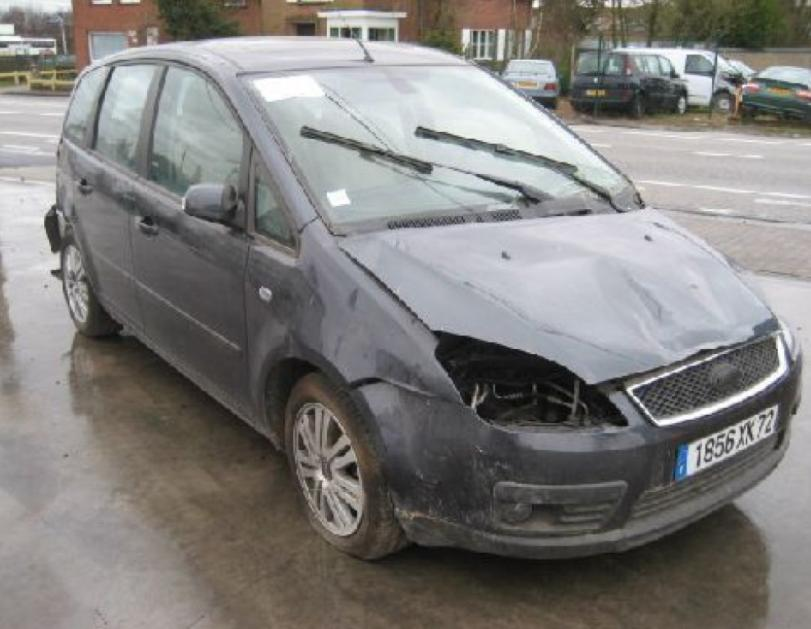Back-bumper: (45, 203, 74, 253)
Back-door: (73, 58, 162, 332)
Back-wheel: (60, 237, 113, 337)
Back-window: (94, 64, 153, 171), (66, 65, 106, 140)
Fender: (242, 217, 463, 453)
Front-bumper: (350, 341, 804, 561)
Front-door: (130, 60, 258, 423)
Front-wheel: (284, 370, 413, 558)
Front-window: (148, 67, 244, 194), (255, 163, 293, 246)
Grille: (622, 328, 789, 427)
Headlight: (774, 309, 796, 364)
Hood: (332, 208, 777, 385)
License-plate: (673, 403, 779, 485)
Mirror: (182, 184, 247, 231)
Quarter-panel: (56, 132, 77, 228)
Rocker-panel: (101, 300, 285, 449)
Roof: (157, 35, 474, 74)
Windshield: (237, 64, 646, 234)
